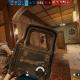Character: (0, 41, 15, 80), (40, 35, 45, 46)
Friend_label: (0, 36, 5, 40)
Head: (2, 41, 8, 45), (42, 36, 44, 38)
